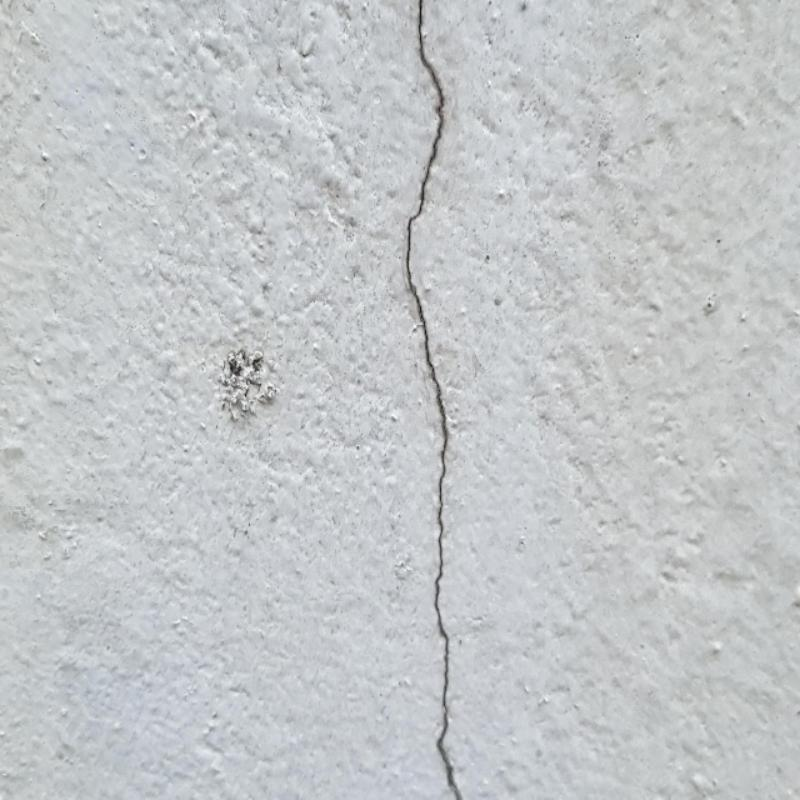pothole: (405, 1, 464, 798)
